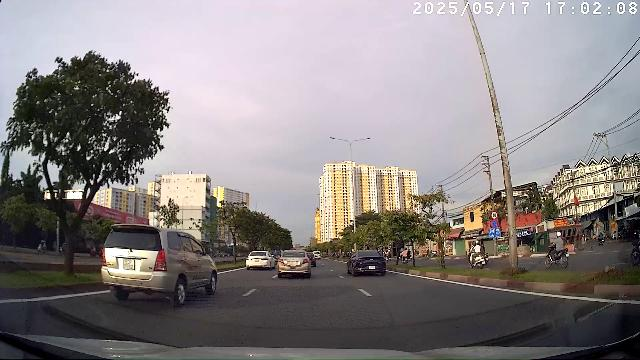127-toc-do-toi-da-60: (490, 211, 498, 219)
131a-cam-do-xe: (492, 220, 498, 228)
